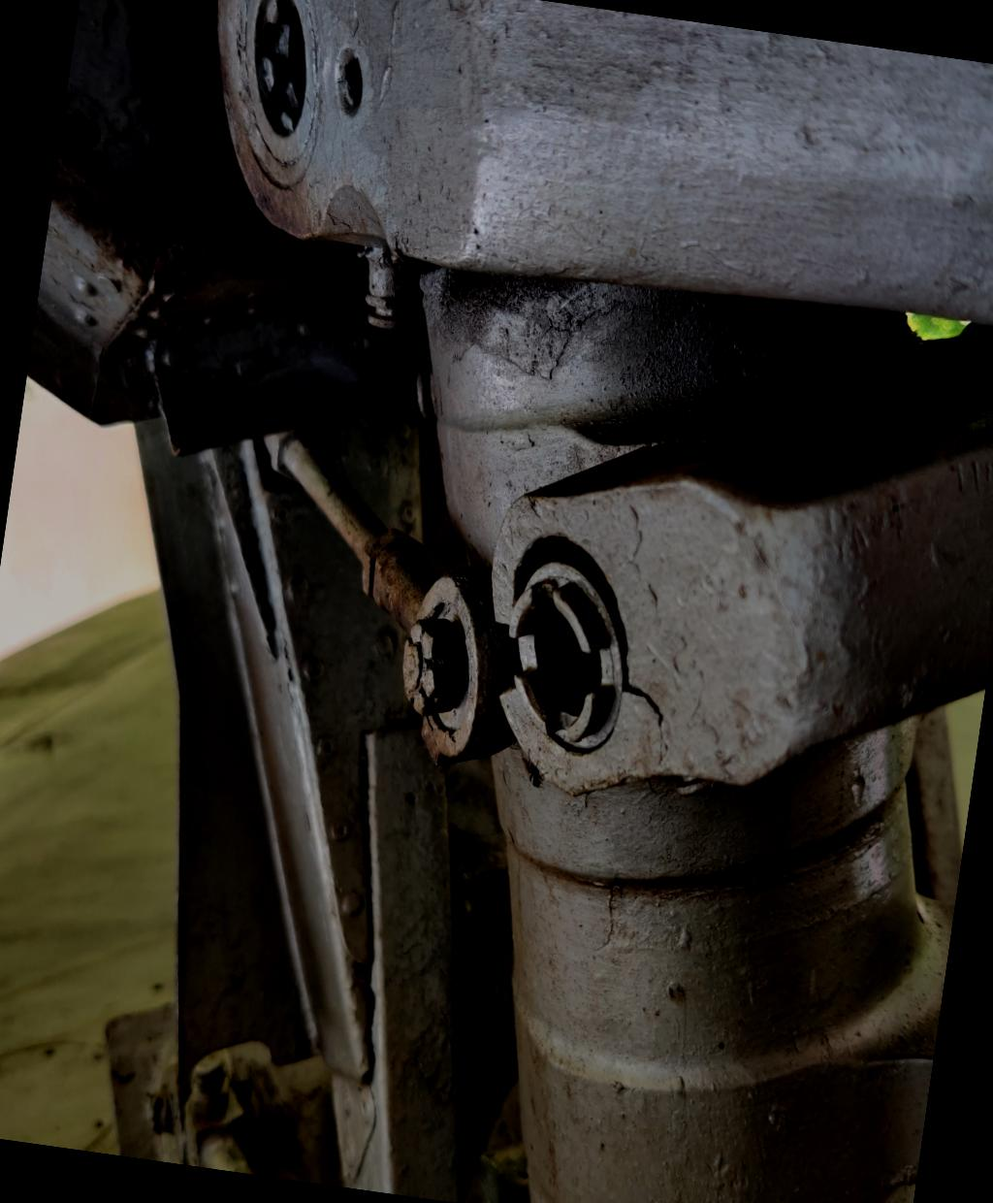crack: (610, 668, 688, 757)
